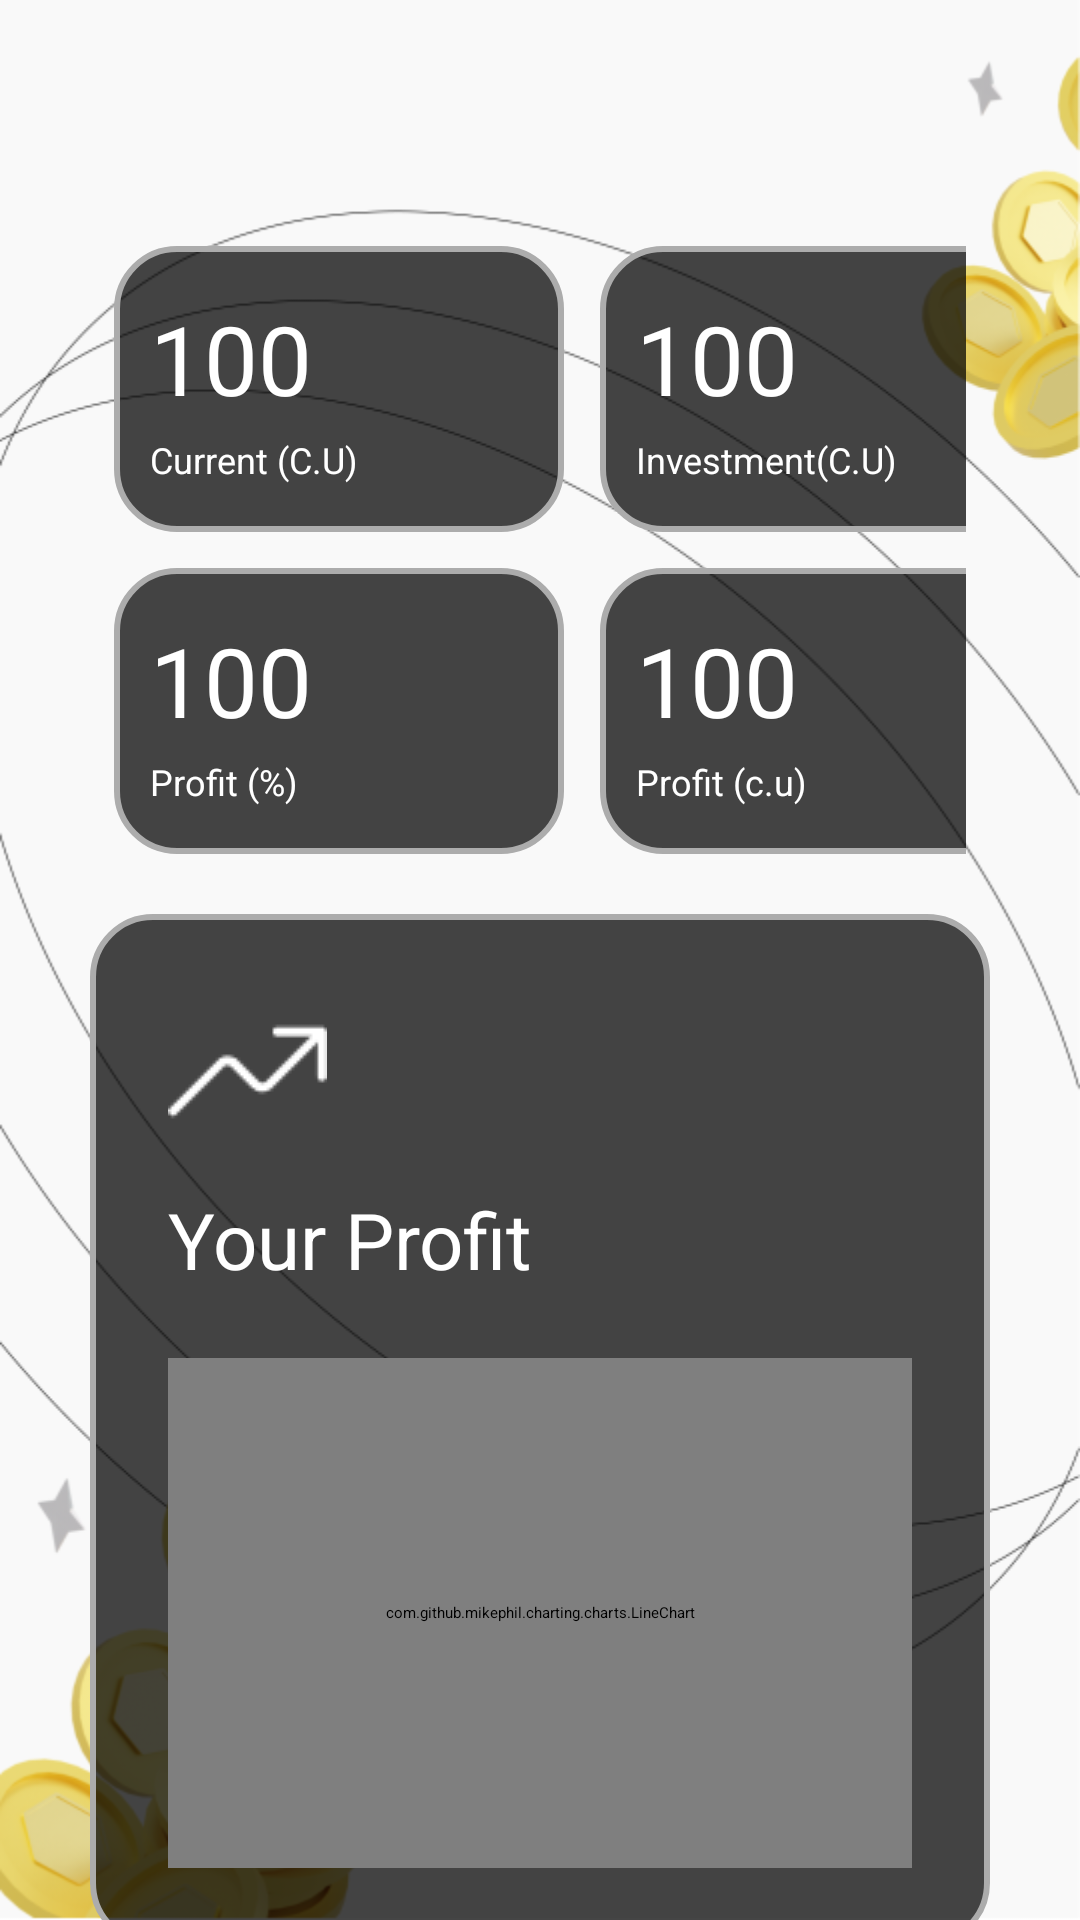

Icons on this 1080px x 1920px Android screen, each with its box as (left=x1, top=y1, right=x2, bottom=y2):
investment: (left=168, top=1025, right=327, bottom=1118)
